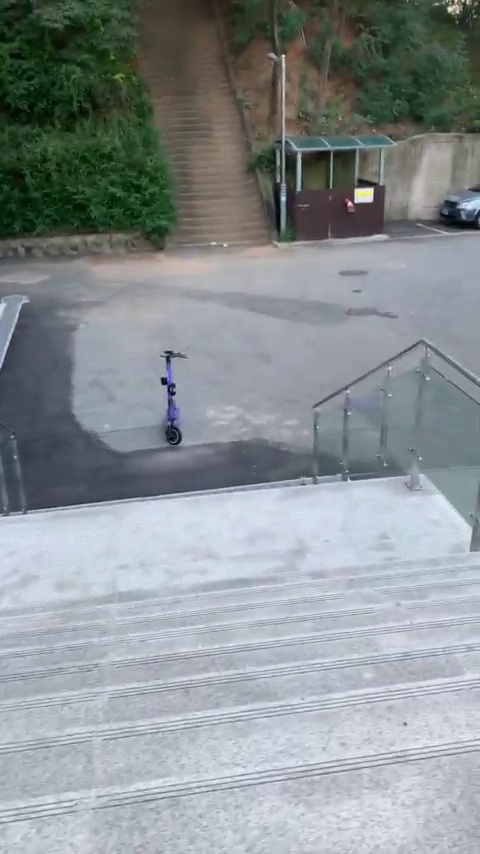beam: (150, 347, 200, 457)
